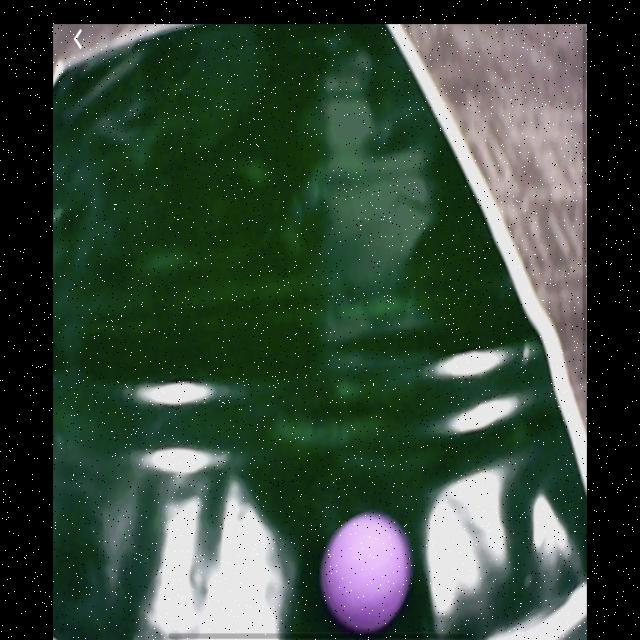ball: (320, 511, 414, 633)
